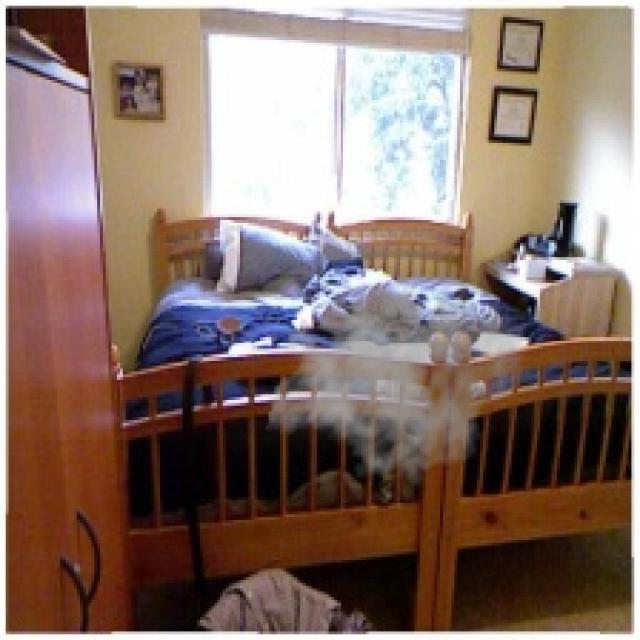smoke: (266, 268, 528, 488)
